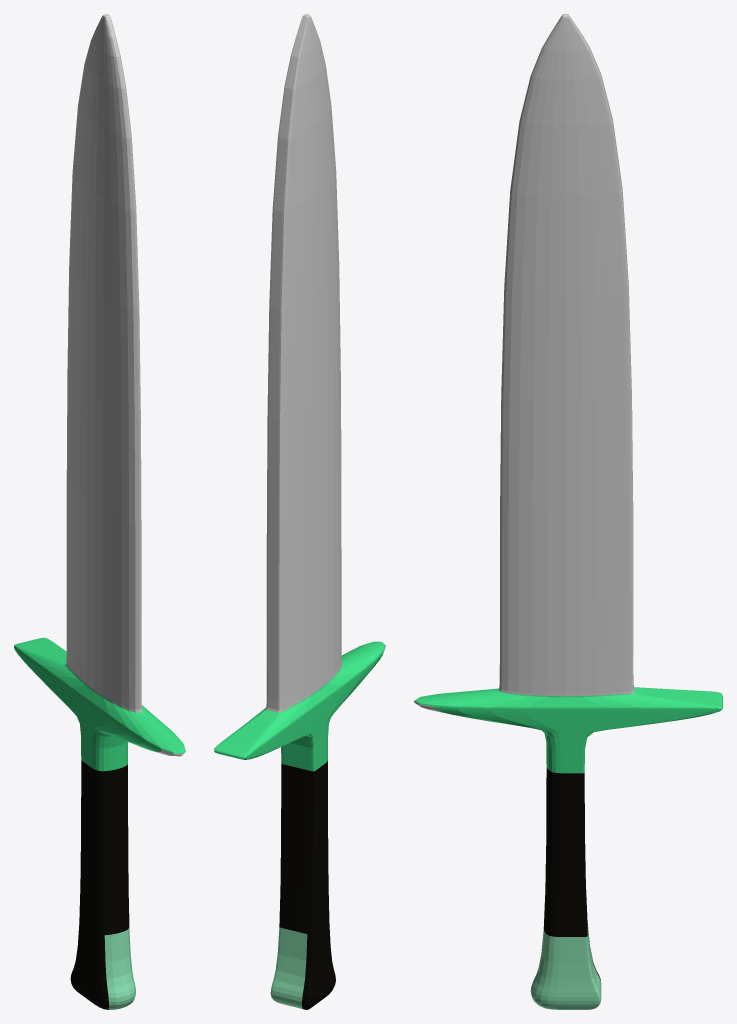
File: Sword.fbx
3 views of the same model, side by side, from view 1: azimuth 30°, elevation 25°; view 2: azimuth 150°, elevation 25°; view 3: azimuth 270°, elevation 25° (orthographic).
Parts seen in each view (by area): view 1: Cube; view 2: Cube; view 3: Cube.
Part boxes in pixels (left/top/right/bottom): Cube: left=14, top=14, right=185, bottom=1009; Cube: left=214, top=14, right=385, bottom=1009; Cube: left=414, top=14, right=722, bottom=1009.
Size of the model in its own units: 34.18 by 823 by 232.
